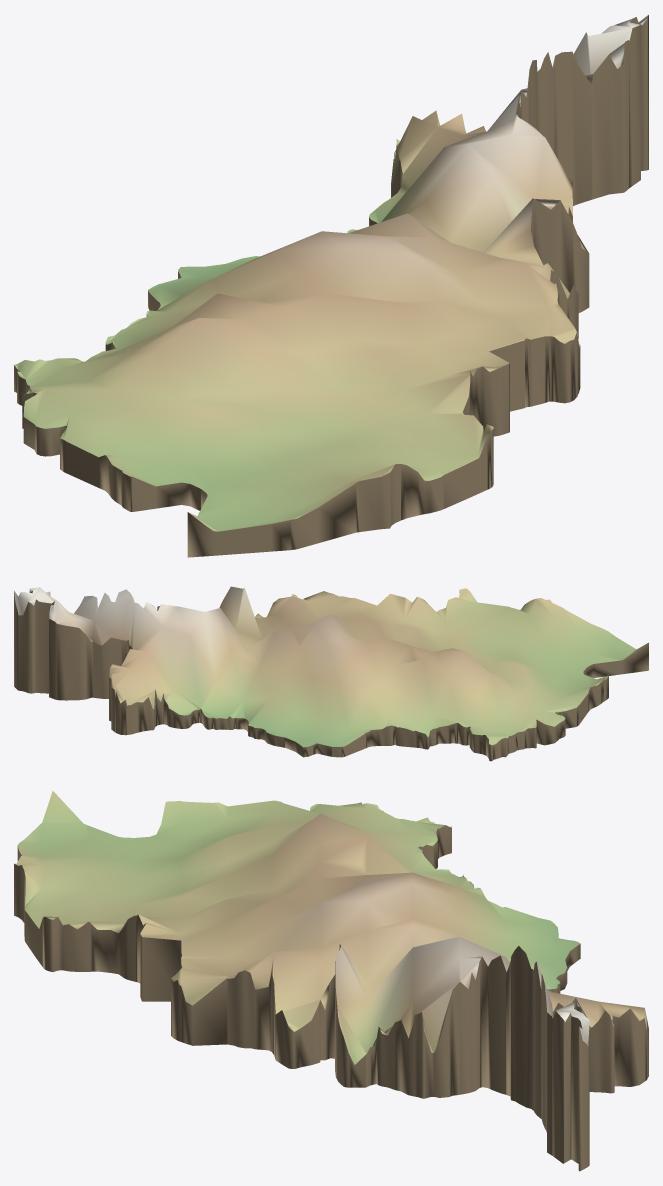
File: AFG.glb
3 views of the same model, one above another, from view 1: azimuth 30°, elevation 25°; view 2: azimuth 150°, elevation 25°; view 3: azimuth 270°, elevation 25° (orthographic). The views are drawn at different scales.
Parts seen in each view (by area): view 1: AFG; view 2: AFG; view 3: AFG.
Part boxes in pixels (left/top/right/bottom): AFG: left=14, top=14, right=648, bottom=557; AFG: left=14, top=586, right=648, bottom=761; AFG: left=14, top=791, right=648, bottom=1171.
Bounding box in the file's own units: 1.57 × 0.338 × 1.23.
